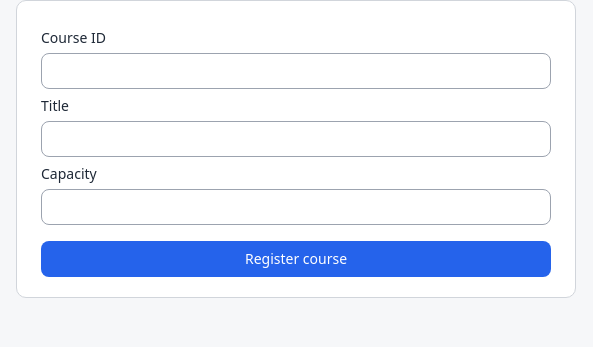
Register Course › refuses a capacity of zero, without sending
The image size is (593, 347).
Type "c1" into the field labelled "Course ID" at coordinates (296, 71), box [41, 53, 551, 89]
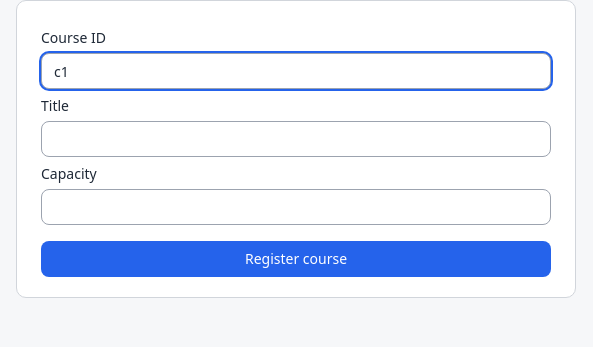
Type "Math" into the field labelled "Title" at coordinates (296, 139), box [41, 121, 551, 157]
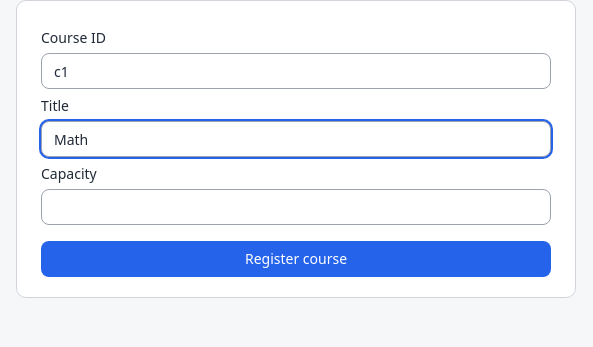
Type "0" into the number field labelled "Capacity" at coordinates (296, 207), box [41, 189, 551, 225]
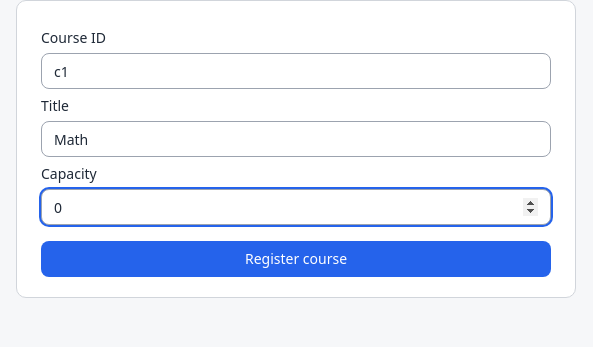
Click the button "Register course" at coordinates (296, 259), box [41, 241, 551, 277]
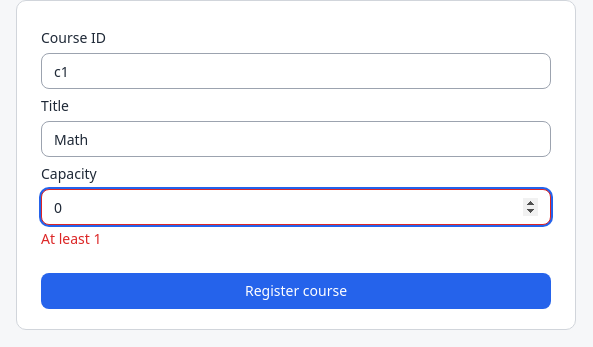
Check: the text "At least 1" is shown, box [41, 229, 101, 248]
